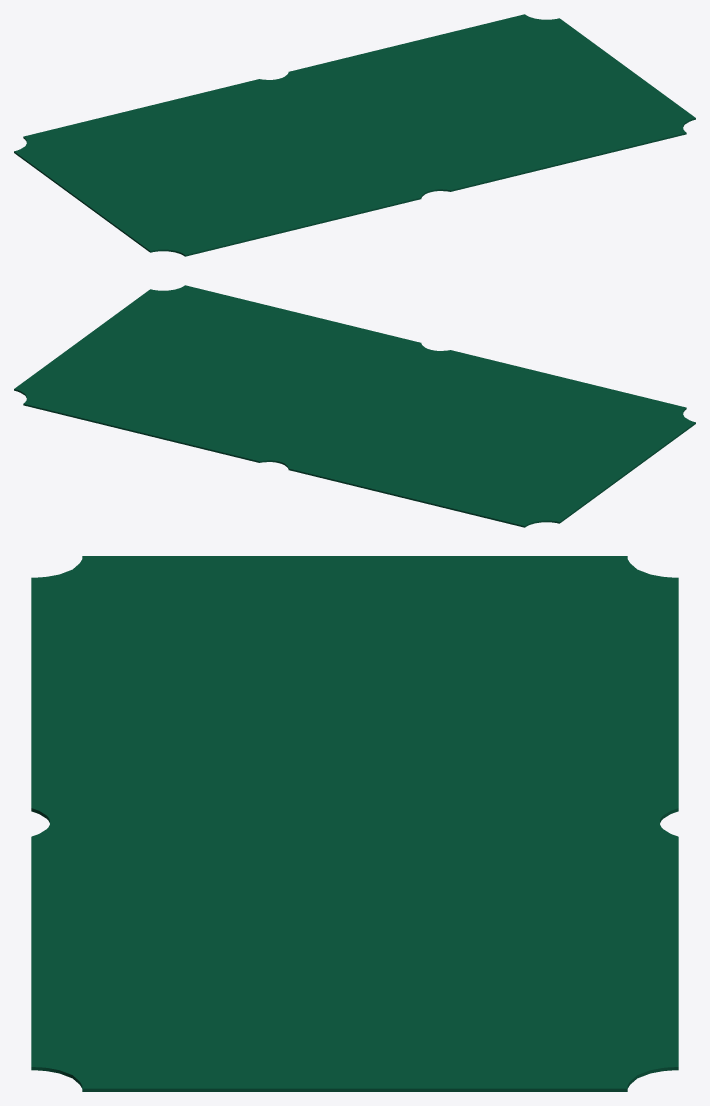
File: Table_Fabric.fbx
The picture shows the model from 3 angles, top to bottom: view 1: azimuth 30°, elevation 25°; view 2: azimuth 150°, elevation 25°; view 3: azimuth 270°, elevation 25°; orthographic projection. The views are drawn at different scales.
Visible parts, largest first — view 1: Fabric; view 2: Fabric; view 3: Fabric.
Boxes of the visible parts, x1,y1,x2,y2 form: Fabric: (14,14,695,256); Fabric: (14,285,695,527); Fabric: (31,556,678,1091).
Bounding box in the file's own units: 928 × 2.69 × 477.
